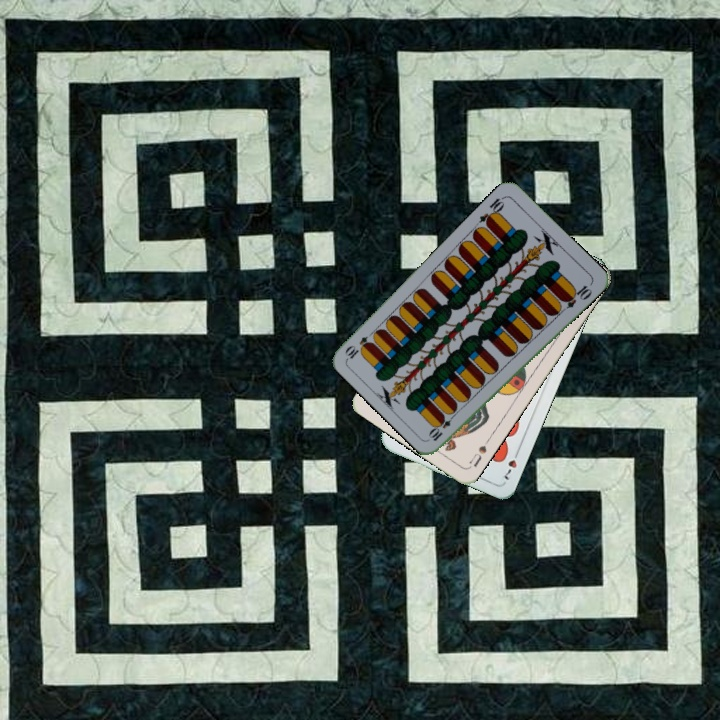E10: (475, 192, 507, 229), (426, 409, 459, 444)
H7: (500, 445, 522, 483)
SU: (465, 434, 492, 470)
